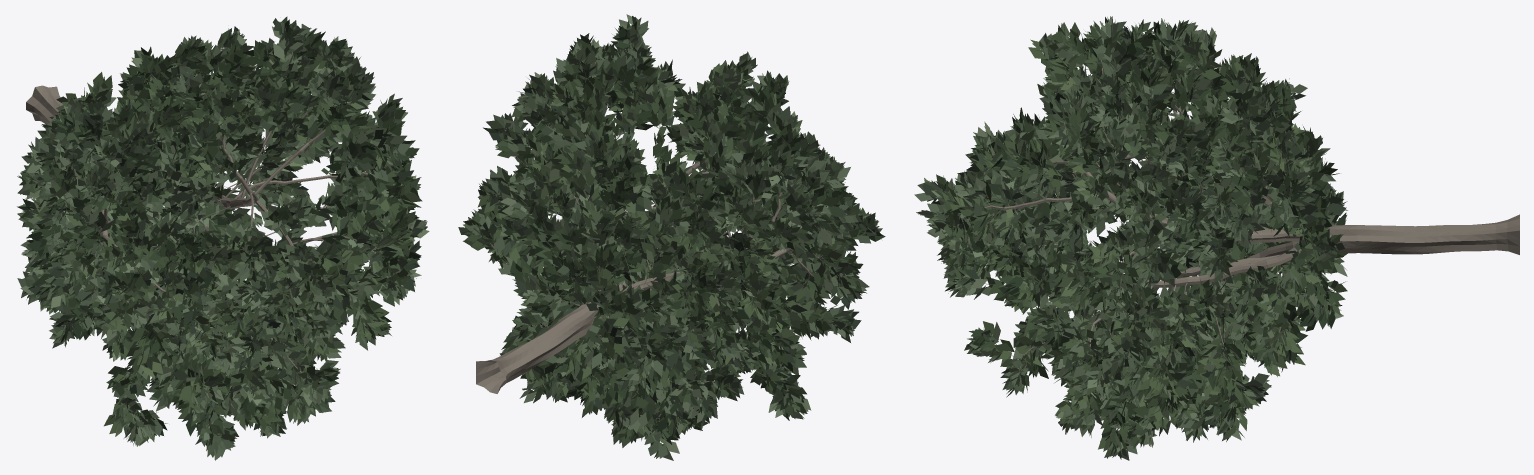
The model's file is tree_near_05.obj.
The picture shows the model from 3 angles, left to right: view 1: azimuth 30°, elevation 25°; view 2: azimuth 150°, elevation 25°; view 3: azimuth 270°, elevation 25°; orthographic projection. The views are drawn at different scales.
Parts seen in each view (by area): view 1: tree_near_05; view 2: tree_near_05; view 3: tree_near_05.
Part boxes in pixels (x1,y1,x2,y2): tree_near_05: [17, 16, 429, 460]; tree_near_05: [458, 14, 885, 460]; tree_near_05: [914, 16, 1519, 460].
Size of the model in its own units: 0.7614 by 0.7824 by 0.9975.
1 material, 1 textured.
